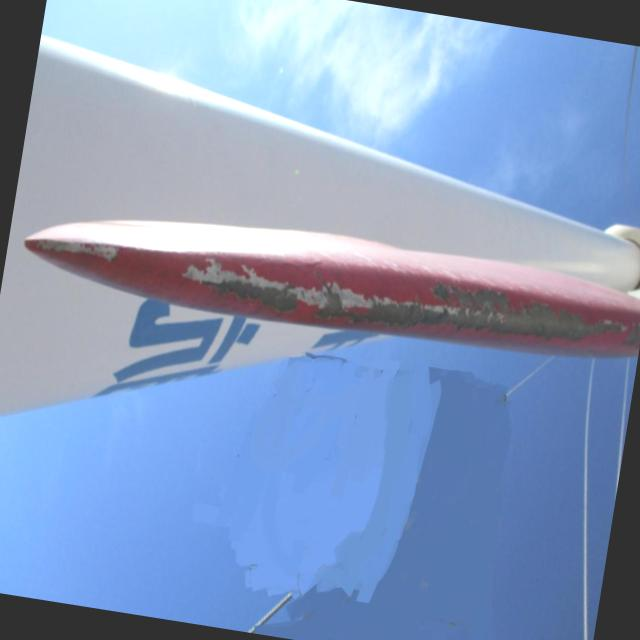corrosion: (182, 244, 630, 368), (30, 228, 127, 269)
